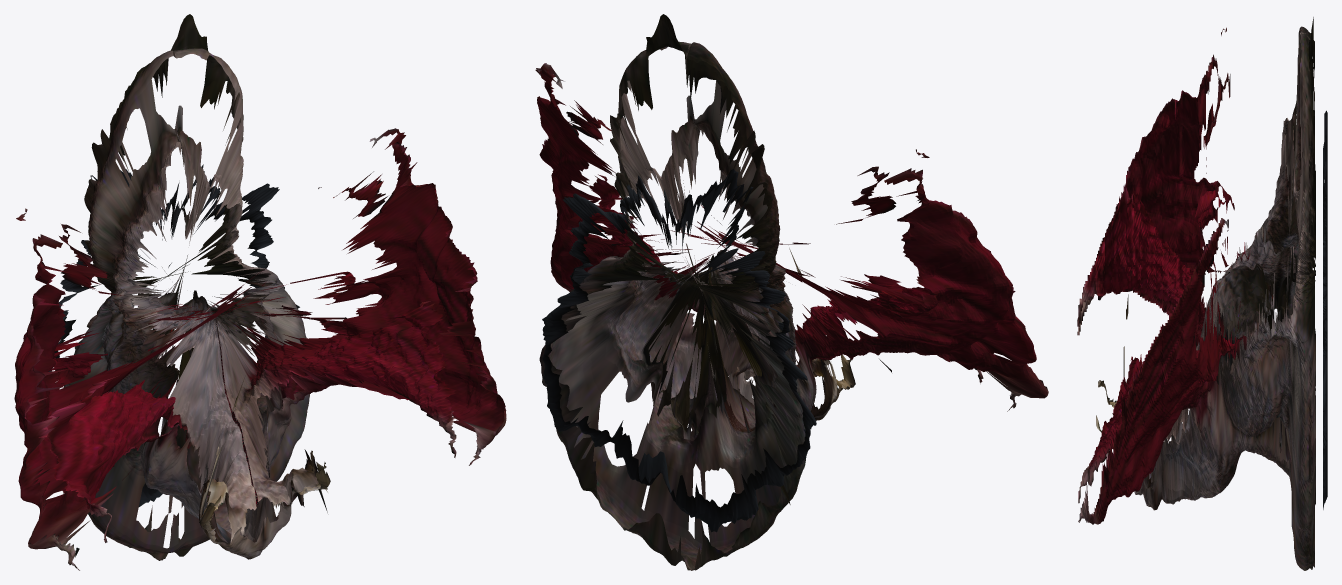
3 renders of one model, left to right at view 1: azimuth 30°, elevation 25°; view 2: azimuth 150°, elevation 25°; view 3: azimuth 270°, elevation 25°, orthographic. The views are drawn at different scales.
Visible parts, largest first — view 1: geometry_0; view 2: geometry_0; view 3: geometry_0.
Part boxes in pixels (box(x1,y1,x2,y2)): geometry_0: box(14, 14, 506, 570); geometry_0: box(535, 14, 1048, 570); geometry_0: box(1077, 17, 1327, 570).
Size of the model in its own units: 1.46 by 1.56 by 0.6341.
Materials: 1 (1 with a texture image).
